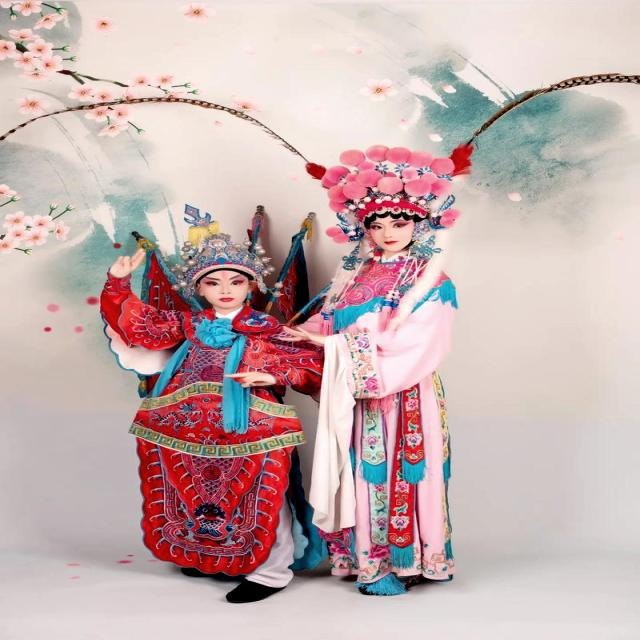Reeves-s Pheasant: (0, 94, 313, 165), (461, 73, 639, 147)
